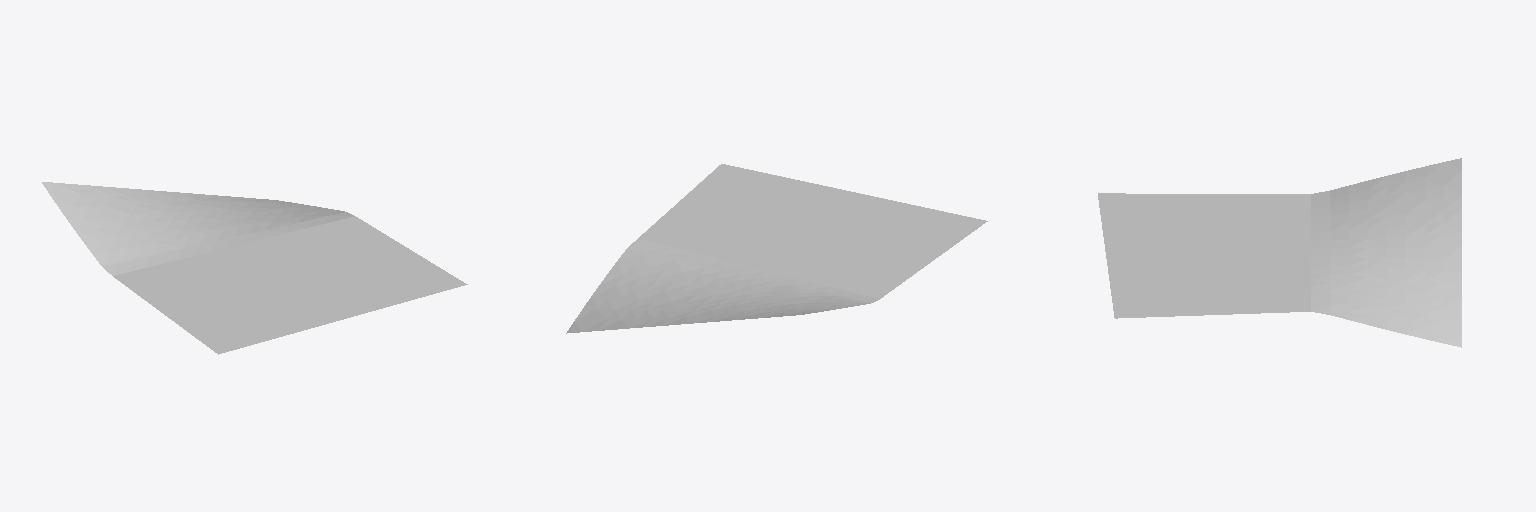
File: test_map2.obj
3 views of the same model, side by side, from view 1: azimuth 30°, elevation 25°; view 2: azimuth 150°, elevation 25°; view 3: azimuth 270°, elevation 25° (orthographic).
Parts seen in each view (by area): view 1: Grid.004; view 2: Grid.004; view 3: Grid.004.
Part boxes in pixels (bbox=[...]): Grid.004: bbox=[42, 182, 467, 354]; Grid.004: bbox=[566, 164, 987, 333]; Grid.004: bbox=[1098, 158, 1461, 347].
Bounding box in the file's own units: 52.63 × 14.73 × 64.43.